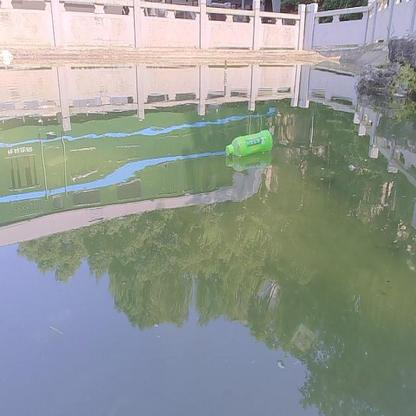plastic bottle: (226, 129, 274, 156)
